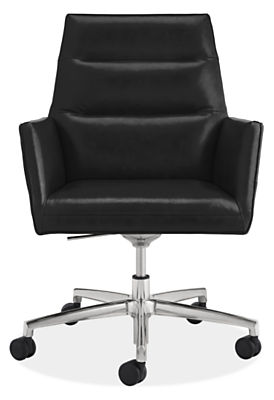chairs: (8, 14, 269, 387)
